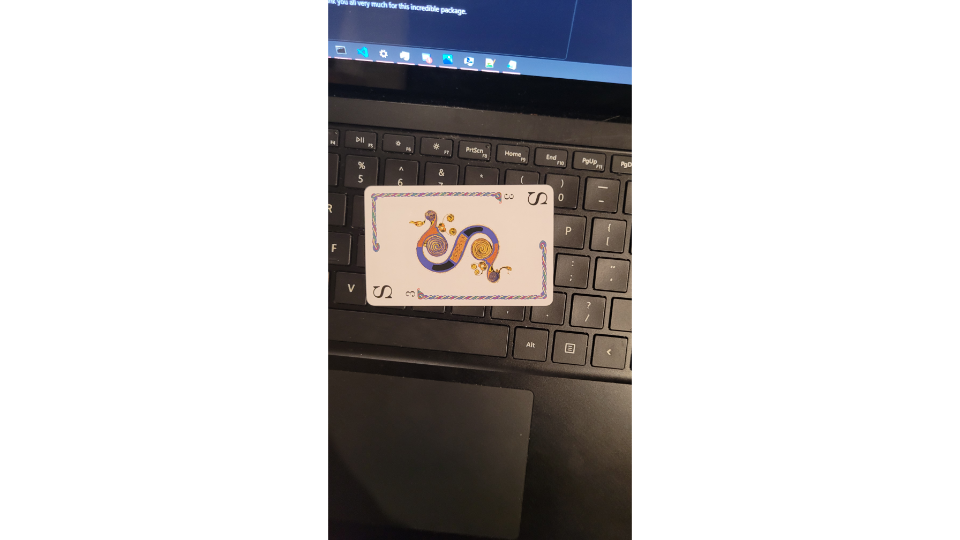S: (358, 179, 562, 311)
